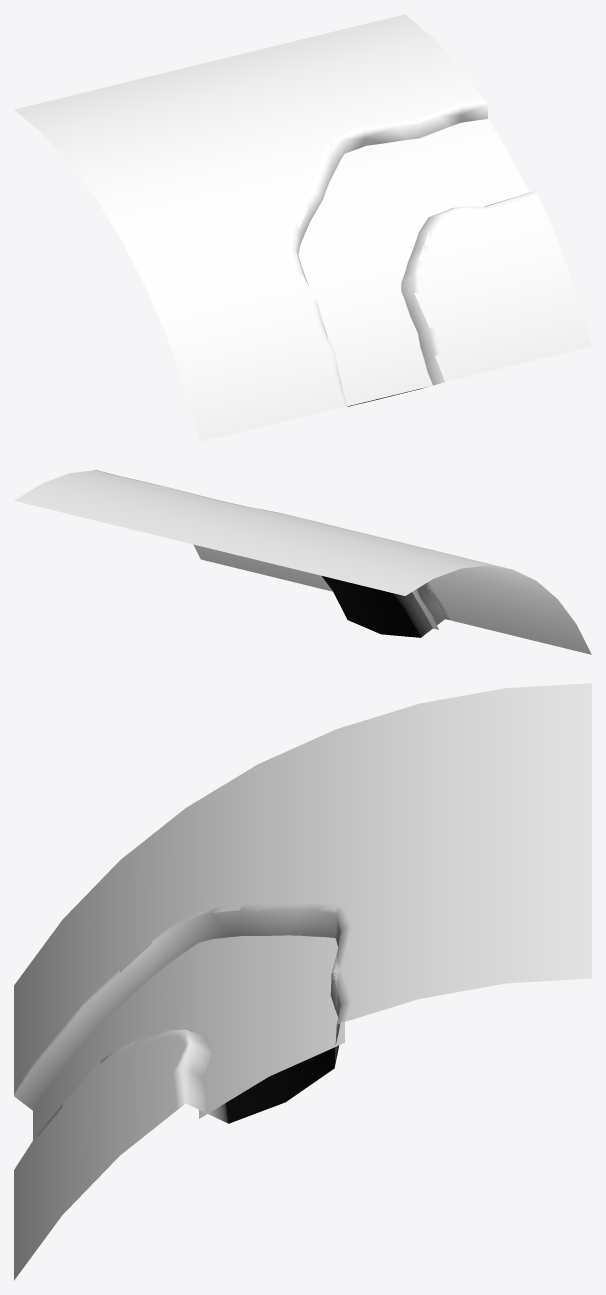
File: grd_Rne_0.dae
3 renders of one model, top to bottom at view 1: azimuth 30°, elevation 25°; view 2: azimuth 150°, elevation 25°; view 3: azimuth 270°, elevation 25°, orthographic. The views are drawn at different scales.
Parts seen in each view (by area): view 1: grd_Rne_0; view 2: grd_Rne_0; view 3: grd_Rne_0.
Boxes of the visible parts, x1,y1,x2,y2 form: grd_Rne_0: (14,14,591,441); grd_Rne_0: (14,470,591,654); grd_Rne_0: (14,683,591,1280).
Size of the model in its own units: 512 by 264 by 423.
Materials: 4 (1 with a texture image).
